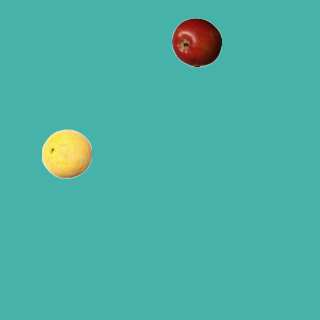Apple Braeburn: (171, 17, 221, 67)
Cantaloupe 1: (41, 128, 91, 178)
